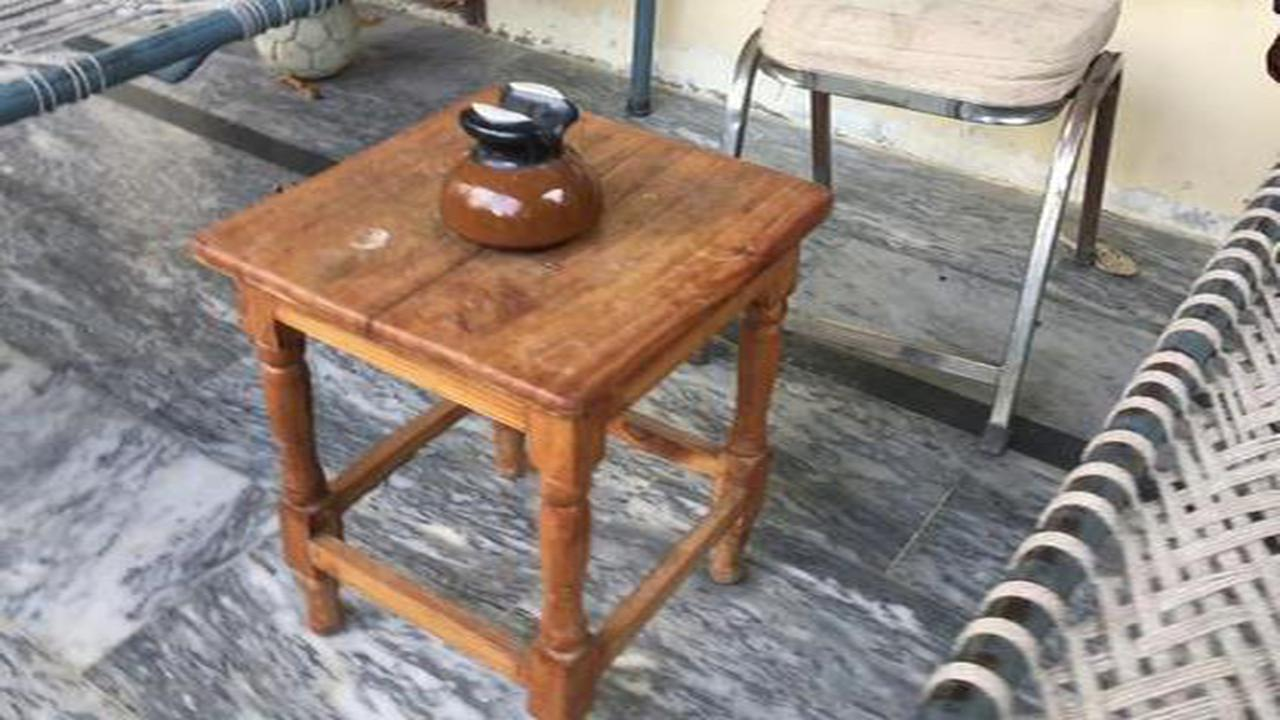insulator_pin: (407, 67, 628, 255)
